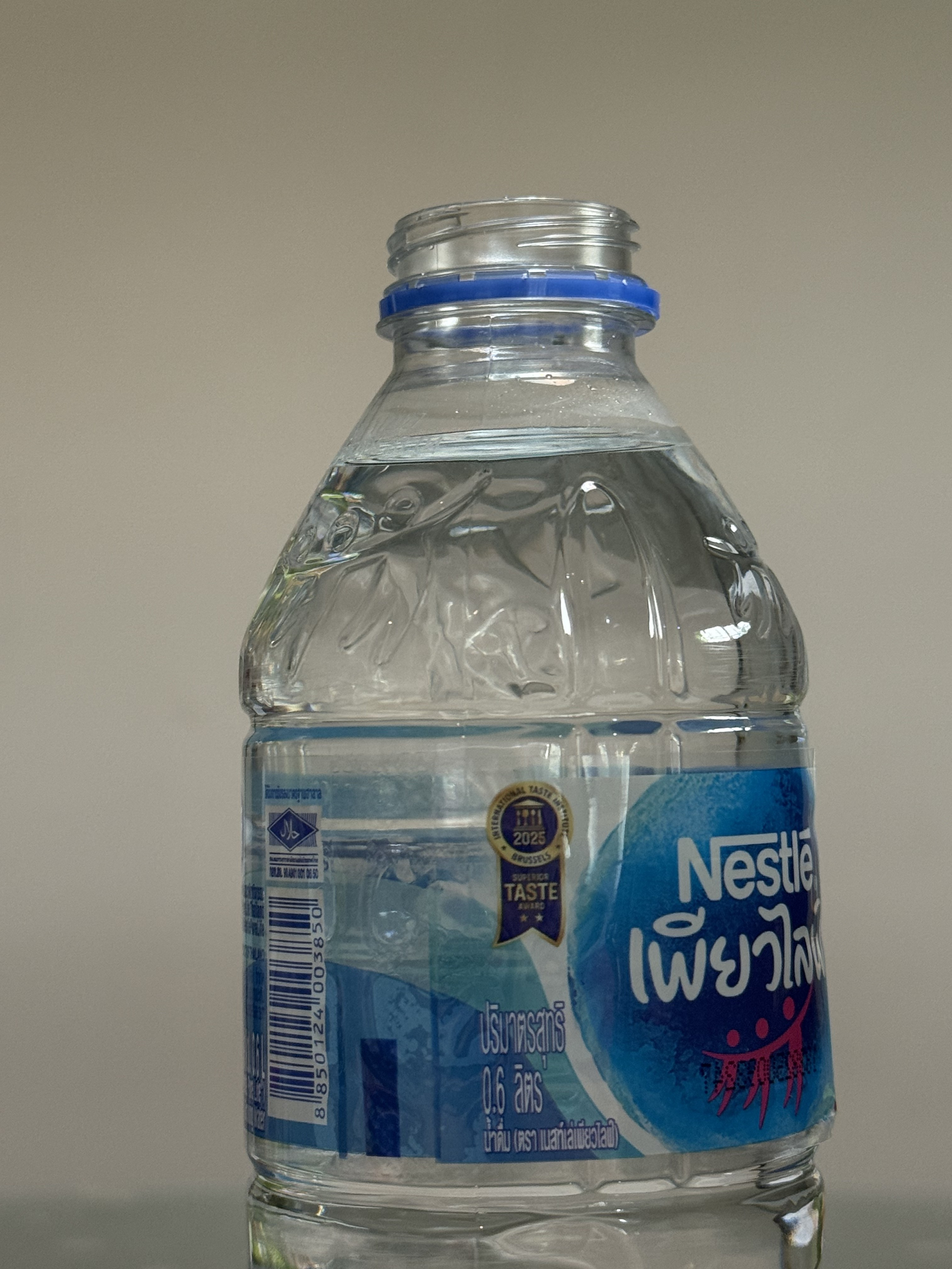no_cap: (374, 193, 664, 332)
